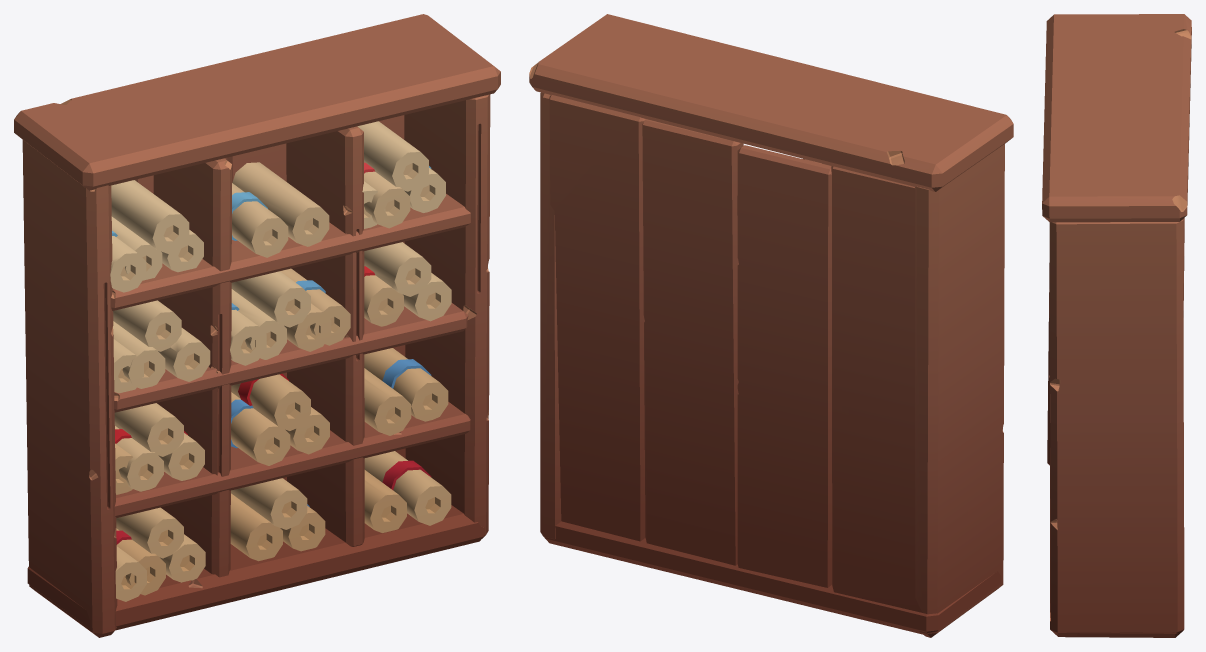
Rendered from scroll_rack.glb.
The picture shows the model from 3 angles, left to right: view 1: azimuth 30°, elevation 25°; view 2: azimuth 150°, elevation 25°; view 3: azimuth 270°, elevation 25°; orthographic projection. The views are drawn at different scales.
Parts seen in each view (by area): view 1: scroll_rack; view 2: scroll_rack; view 3: scroll_rack.
Boxes of the visible parts, left/top/right/bottom form: scroll_rack: left=14, top=14, right=500, bottom=637; scroll_rack: left=529, top=14, right=1013, bottom=637; scroll_rack: left=1042, top=14, right=1191, bottom=637.
Bounding box in the file's own units: 2.19 × 2.41 × 0.7309.
Materials: 1 (1 with a texture image).
